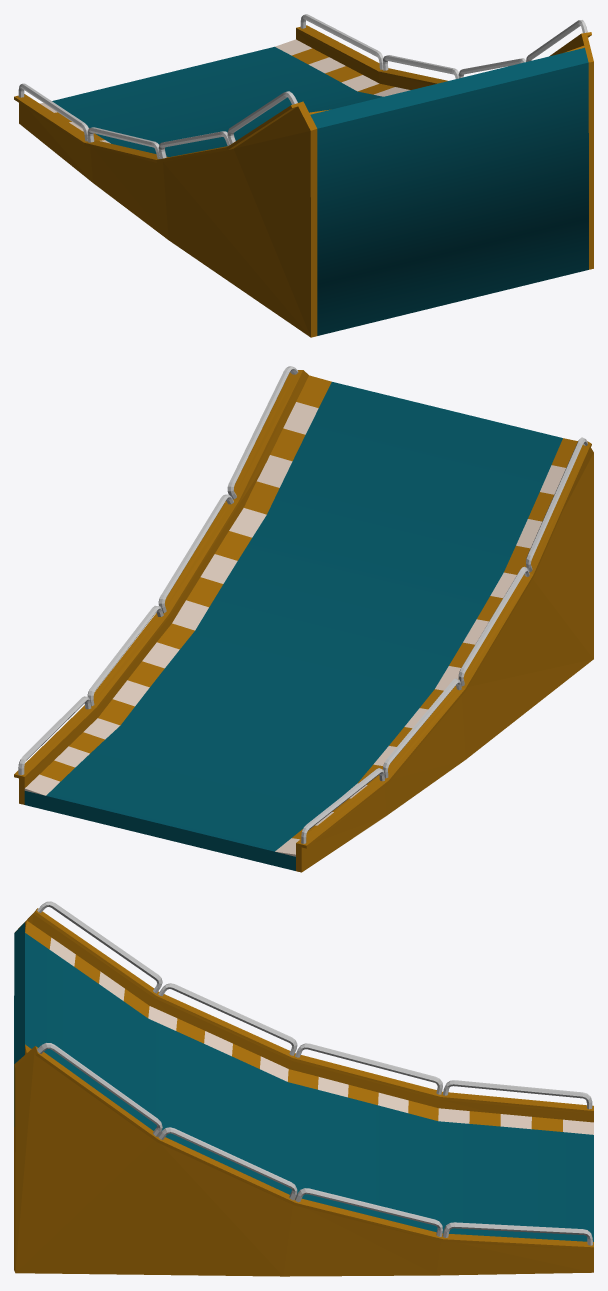
Rendered from ramp_02.FBX.
3 renders of one model, top to bottom at view 1: azimuth 30°, elevation 25°; view 2: azimuth 150°, elevation 25°; view 3: azimuth 270°, elevation 25°, orthographic.
Visible parts, largest first — view 1: ramp_02, wall_r, wall_l, curbs_l; view 2: ramp_02, wall_r, wall_l, curbs_l, curbs_r; view 3: ramp_02, wall_l, wall_r, curbs_r.
Part boxes in pixels (x1=…): ramp_02: x1=52, y1=46, x2=588, y2=335; wall_r: x1=14, y1=83, x2=317, y2=337; wall_l: x1=296, y1=14, x2=593, y2=269; curbs_l: x1=275, y1=39, x2=584, y2=96; ramp_02: x1=24, y1=382, x2=562, y2=870; wall_r: x1=296, y1=437, x2=593, y2=872; wall_l: x1=14, y1=366, x2=308, y2=804; curbs_l: x1=24, y1=375, x2=331, y2=795; curbs_r: x1=275, y1=438, x2=577, y2=856; ramp_02: x1=14, y1=922, x2=593, y2=1241; wall_l: x1=14, y1=1043, x2=593, y2=1276; wall_r: x1=15, y1=901, x2=593, y2=1122; curbs_r: x1=25, y1=920, x2=593, y2=1134.
Size of what is drawn, in the model's own units: 219 by 358 by 158.
